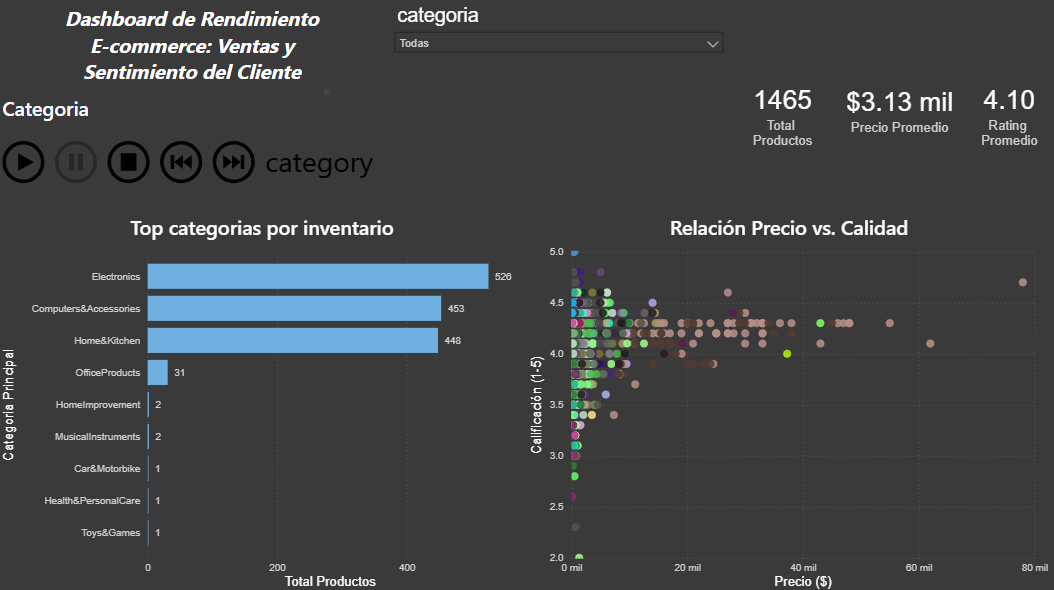

This screenshot's page, from the dashboard's own definition file:
{"tool":"powerbi","page":{"name":"Página 1","canvas":[1280,720],"ordinal":0},"visuals":[{"type":"card","fields":{"Values":["amazon_cleaned.Total Productos"]},"box":[888.3,0,123.3,260],"z":0},{"type":"card","fields":{"Values":["amazon_cleaned.Precio Promedio"]},"box":[1011.7,0,160,260],"z":1},{"type":"card","fields":{"Values":["amazon_cleaned.Rating Promedio"]},"box":[1172,0,106,260],"z":2},{"type":"barChart","title":"Top categorias por inventario","fields":{"Category":["amazon_cleaned.Categoria Principal"],"Y":["amazon_cleaned.Total Productos"]},"box":[0,260,640,460],"z":3},{"type":"scatterChart","title":"Relación Precio vs. Calidad","fields":{"Category":["amazon_cleaned.product_id"],"X":["Sum(amazon_cleaned.discounted_price)"],"Y":["Avg(amazon_cleaned.rating)"],"Series":["amazon_cleaned.category"]},"box":[640,260,638,460],"z":4},{"type":"slicer","title":"Categoria","fields":{"Values":["amazon_cleaned.category"]},"box":[470,0,418,260],"z":5},{"type":"textbox","title":"Dashboard de Rendimiento E-commerce: Ventas y Sentimiento del Cliente","box":[62,8,346,116],"z":6},{"type":"PBI_CV_16948668_E17D_454B_8664_2F2C470EA8C1","title":"Categoria","fields":{"category":["amazon_cleaned.category"]},"box":[0,116,470,130],"z":7}]}

Visuals, with their boxes in screenshot pixels (x1, y1, x2, y2), scaled from the page's 1280x720 canvas onto the 1054x590 screenshot:
card - amazon_cleaned.Total Productos: {"left": 731, "top": 0, "right": 833, "bottom": 213}
card - amazon_cleaned.Precio Promedio: {"left": 833, "top": 0, "right": 965, "bottom": 213}
card - amazon_cleaned.Rating Promedio: {"left": 965, "top": 0, "right": 1052, "bottom": 213}
"Top categorias por inventario" barChart: {"left": 0, "top": 213, "right": 527, "bottom": 589}
"Relación Precio vs. Calidad" scatterChart: {"left": 527, "top": 213, "right": 1052, "bottom": 589}
"Categoria" slicer: {"left": 387, "top": 0, "right": 731, "bottom": 213}
"Dashboard de Rendimiento E-commerce: Ventas y Sentimiento del Cliente" textbox: {"left": 51, "top": 7, "right": 336, "bottom": 102}
"Categoria" PBI_CV_16948668_E17D_454B_8664_2F2C470EA8C1: {"left": 0, "top": 95, "right": 387, "bottom": 202}
